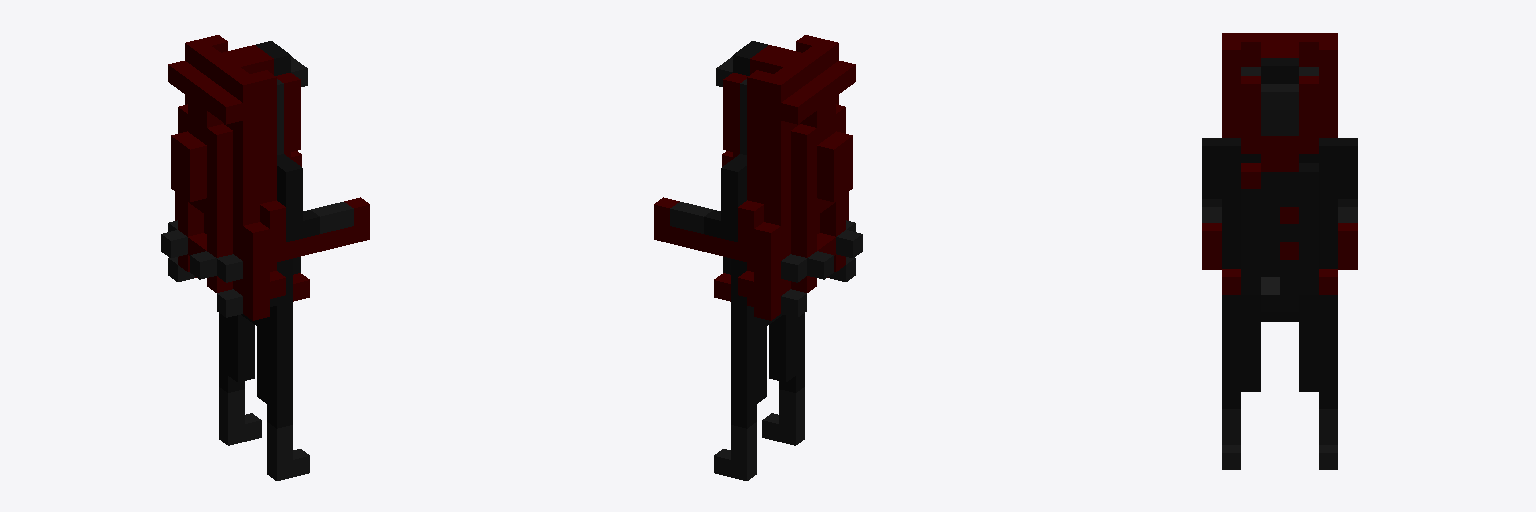
3 renders of one model, left to right at view 1: azimuth 30°, elevation 25°; view 2: azimuth 150°, elevation 25°; view 3: azimuth 270°, elevation 25°, orthographic.
Bounding box in the file's own units: 9 × 23 × 8.
Materials: 1 (1 with a texture image).